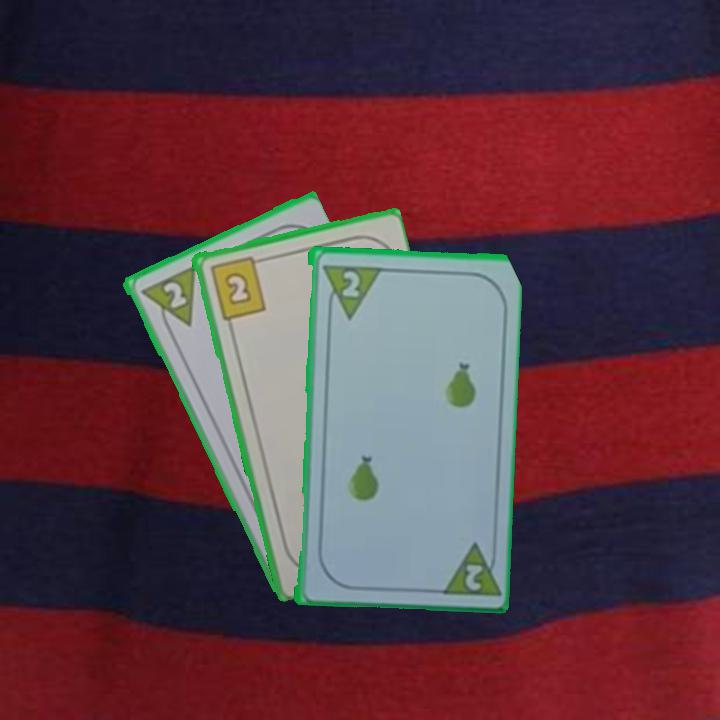2b: (206, 252, 268, 322)
2p: (136, 262, 198, 338), (434, 537, 500, 599), (338, 267, 363, 300)
